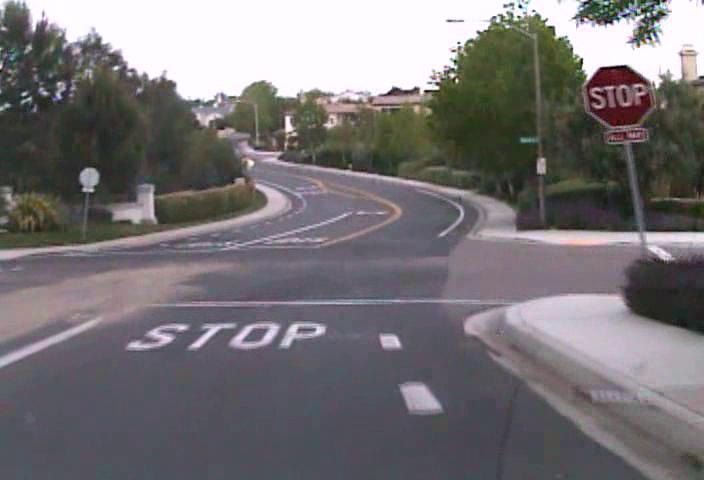stop: (582, 63, 656, 129)
